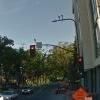Tree: (6, 22, 66, 88)
